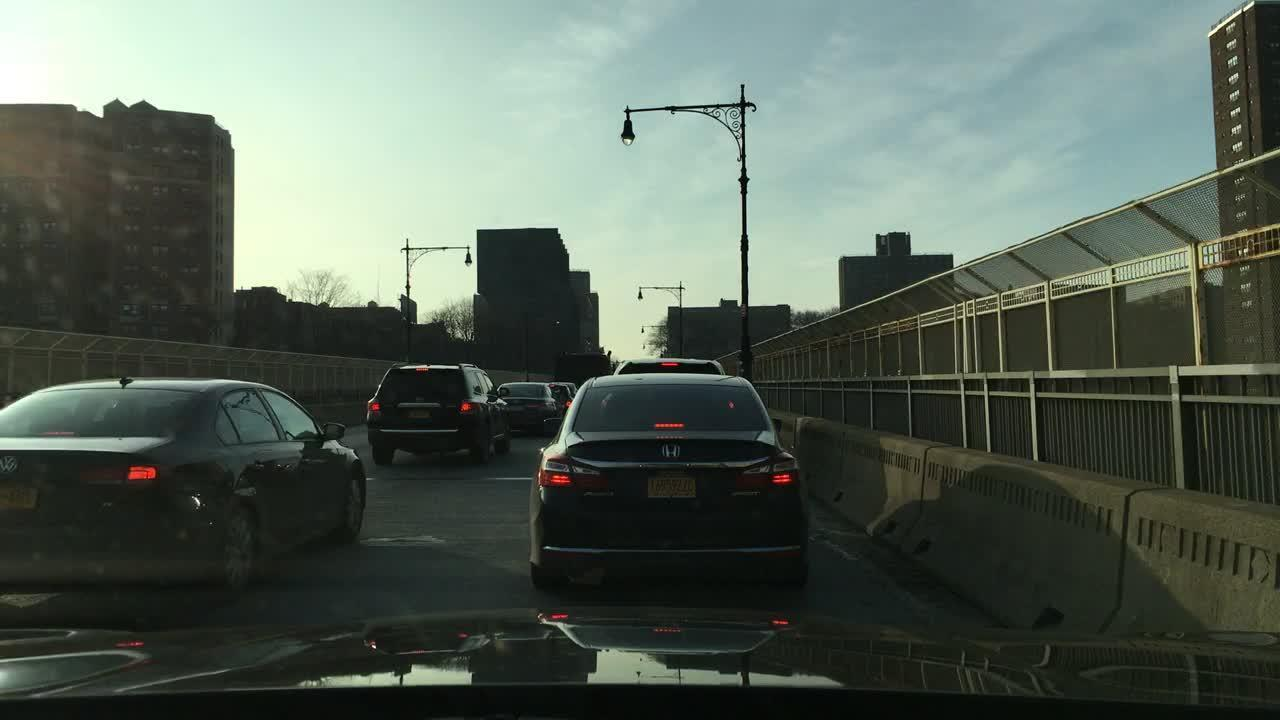Honda: (655, 433, 690, 464)
